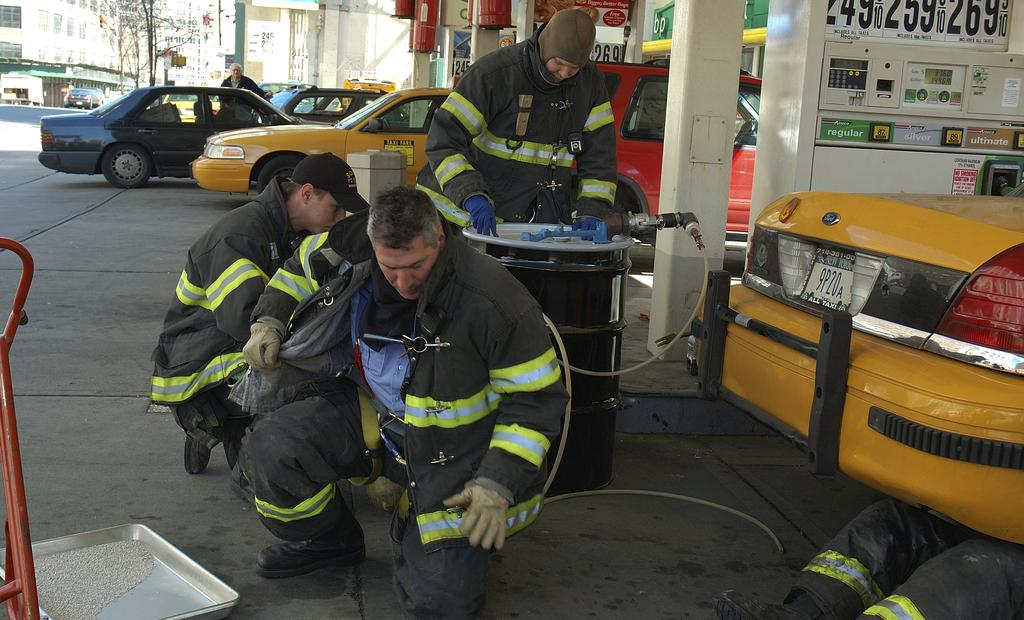taxi: (691, 192, 1024, 546), (189, 87, 452, 193)
